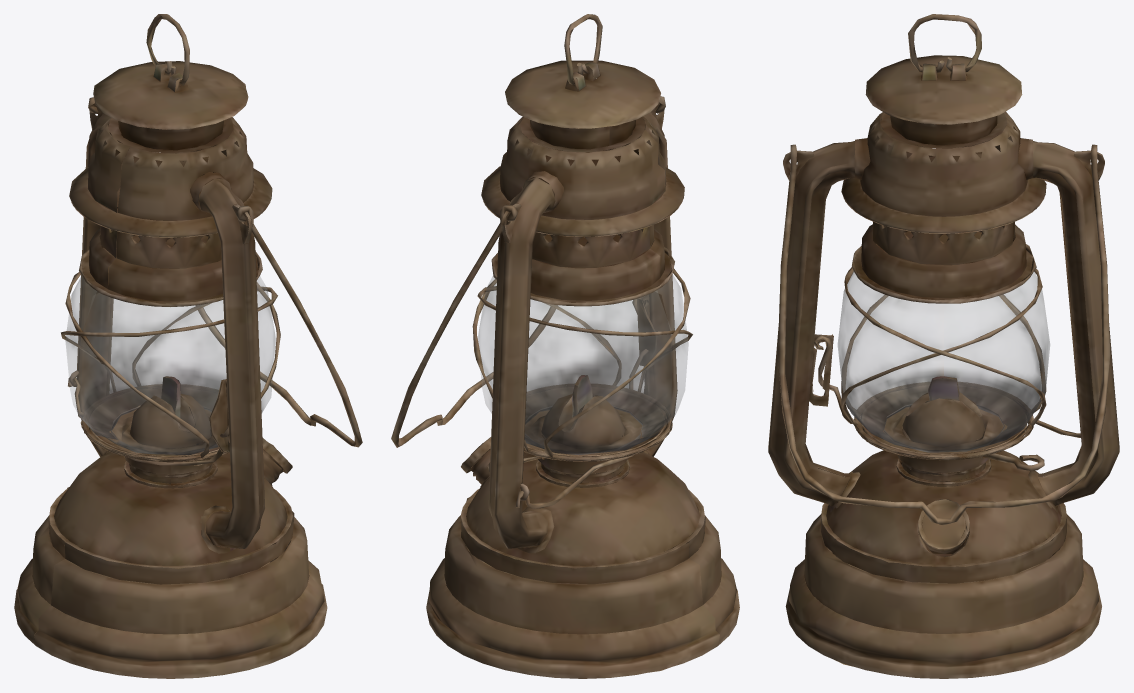
File: obj_old_lantern.glb
3 views of the same model, side by side, from view 1: azimuth 30°, elevation 25°; view 2: azimuth 150°, elevation 25°; view 3: azimuth 270°, elevation 25° (orthographic).
Visible parts, largest first — view 1: Object_2; view 2: Object_2; view 3: Object_2.
Part boxes in pixels (x1,y1,x2,y2): Object_2: (14,14,362,678); Object_2: (391,14,739,678); Object_2: (768,14,1119,678).
Bounding box in the file's own units: 0.187 × 0.3809 × 0.202.
Materials: 1 (1 with a texture image).
